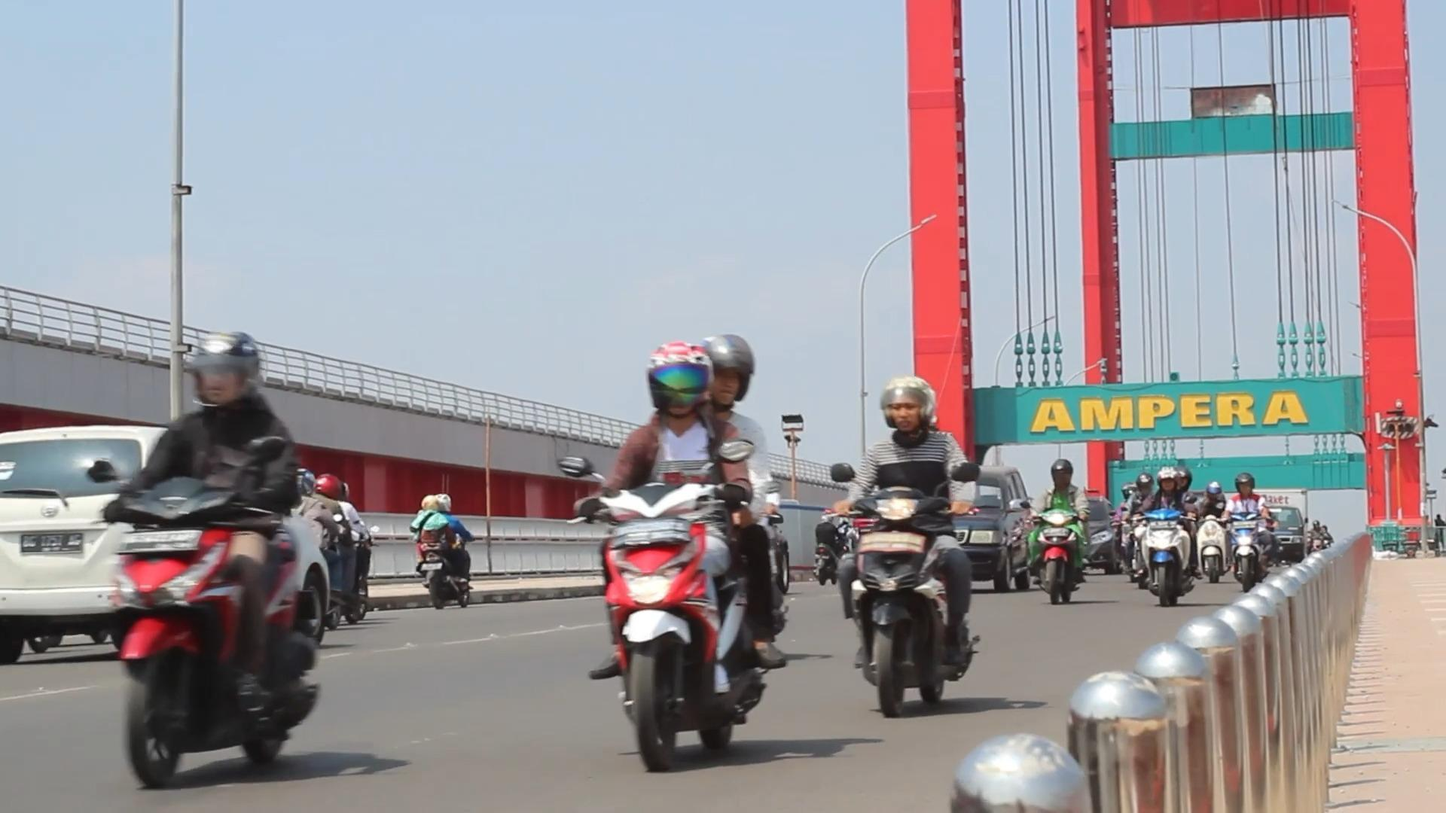Helmet: (176, 322, 277, 419), (640, 332, 718, 428), (690, 327, 763, 418), (875, 368, 948, 443), (1152, 463, 1186, 500), (1047, 452, 1077, 489), (1229, 470, 1260, 499)
bike: (80, 431, 321, 789), (554, 434, 789, 773), (824, 452, 984, 714), (1015, 497, 1091, 603), (1125, 494, 1197, 605), (1217, 503, 1275, 590)
rider: (105, 326, 300, 715), (568, 336, 765, 601), (836, 371, 976, 651), (694, 329, 794, 667), (1035, 455, 1087, 565), (1137, 469, 1199, 525), (1219, 469, 1274, 527)
